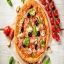pizza: (15, 2, 50, 62)
